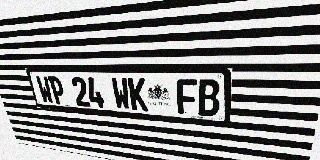2: (70, 77, 90, 107)
4: (85, 77, 105, 108)
B: (198, 79, 220, 117)
F: (176, 79, 197, 115)
K: (127, 78, 148, 111)
P: (47, 76, 67, 105)
W: (111, 78, 131, 110), (35, 76, 55, 104)
